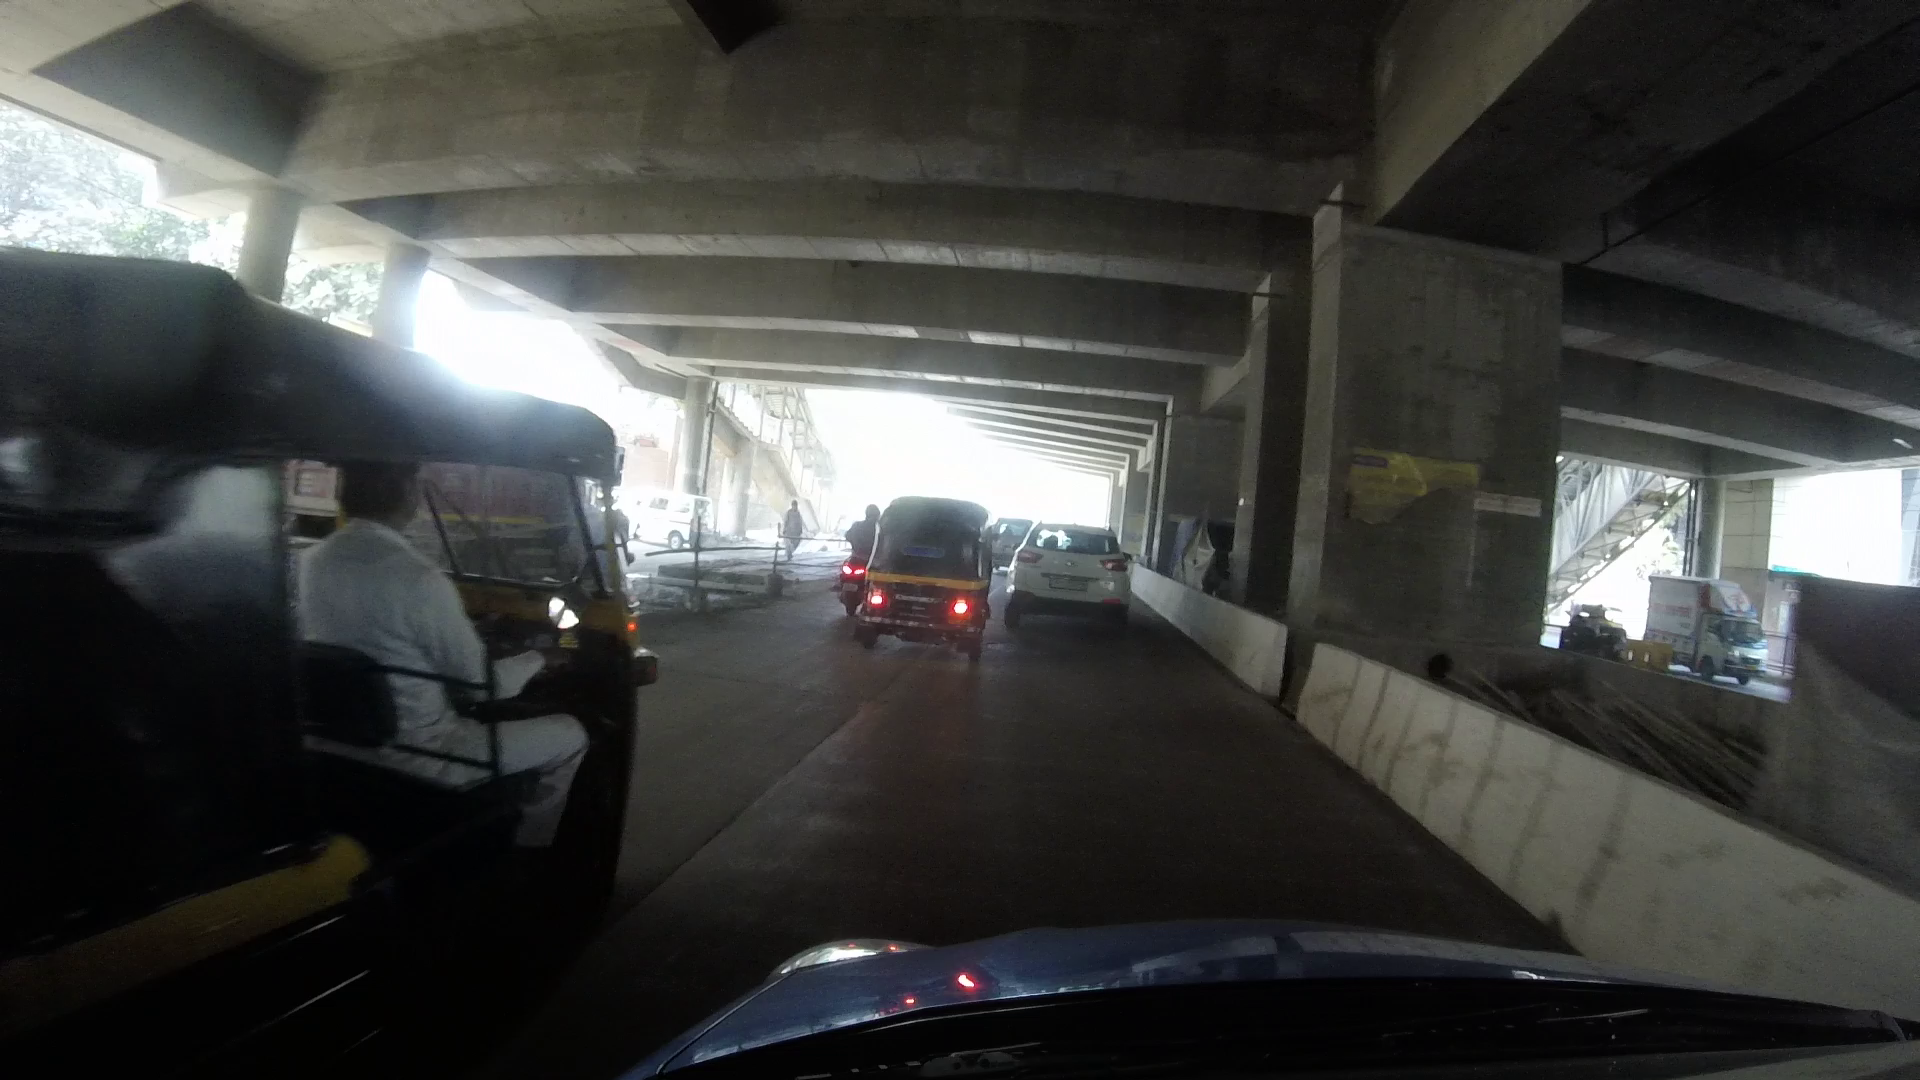car: (1001, 504, 1154, 622)
rickshaw: (4, 245, 654, 1058), (857, 484, 1007, 666), (1560, 583, 1630, 676)
truck: (1643, 564, 1771, 688)
